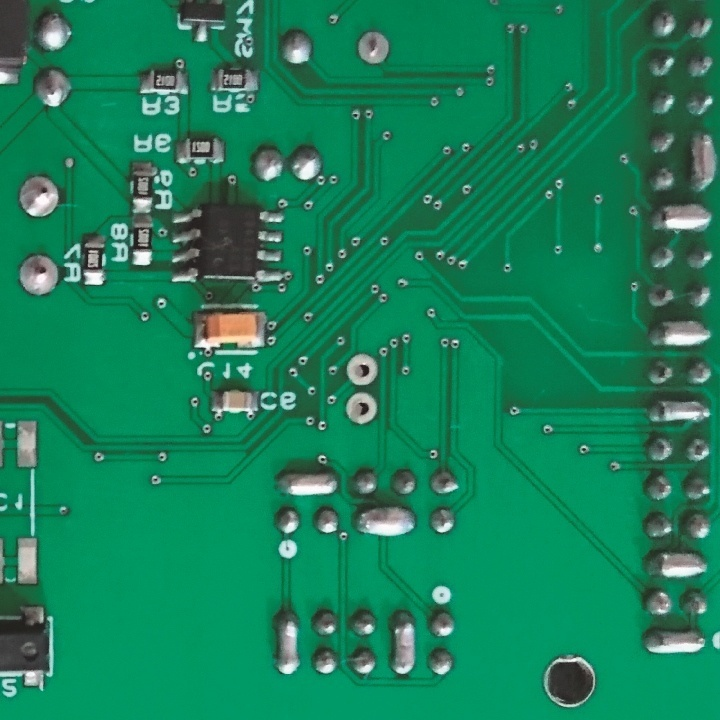F: (15, 173, 61, 219), (17, 253, 61, 298), (354, 29, 388, 69), (343, 391, 376, 429), (346, 354, 377, 387)
P: (387, 605, 420, 683), (641, 623, 708, 660), (352, 504, 418, 541), (648, 201, 716, 236), (646, 392, 714, 427), (641, 546, 710, 580), (647, 317, 714, 352), (273, 605, 302, 684), (271, 468, 343, 499), (688, 128, 718, 198)
